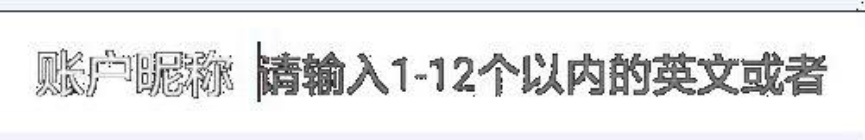EditText: (1, 1, 864, 139)
